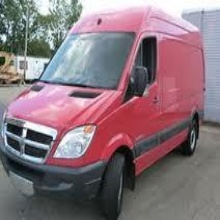no damage: (1, 6, 206, 220)
